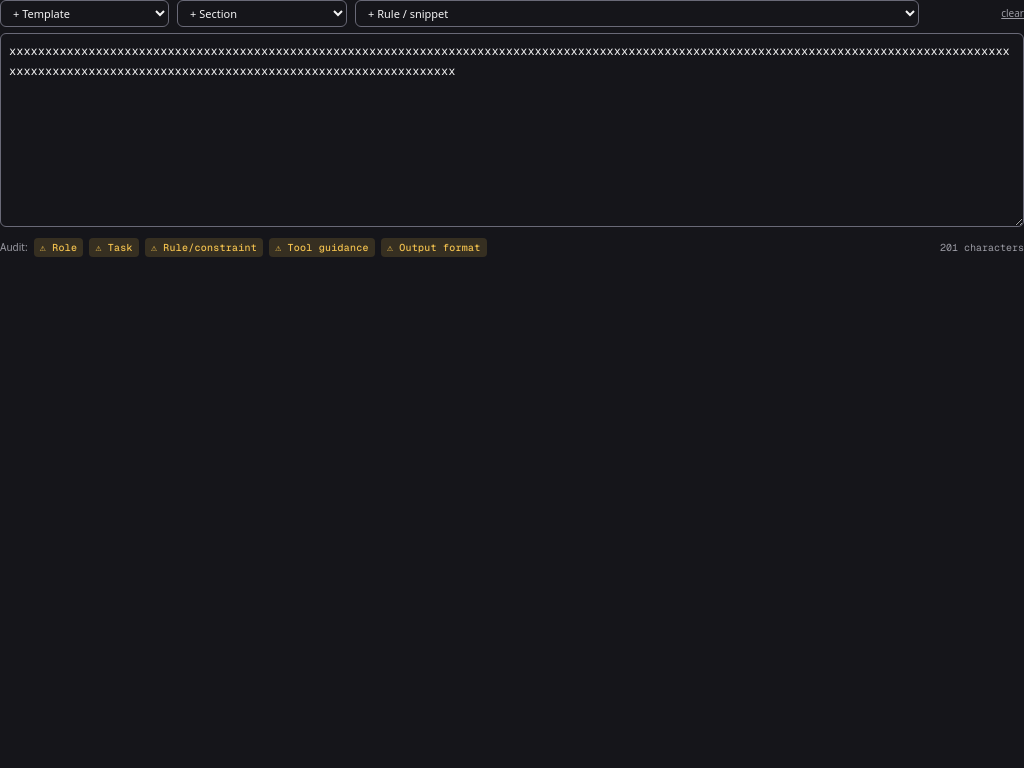
Scenario: PromptEditor clear (long text) › text over 200 chars: clicking clear opens a confirm dialog instead of wiping immediately
What coordinates should you click on to do the following:
click the button "clear"
I would click on:
 (1013, 14)
Its box is [1001,6,1023,21].
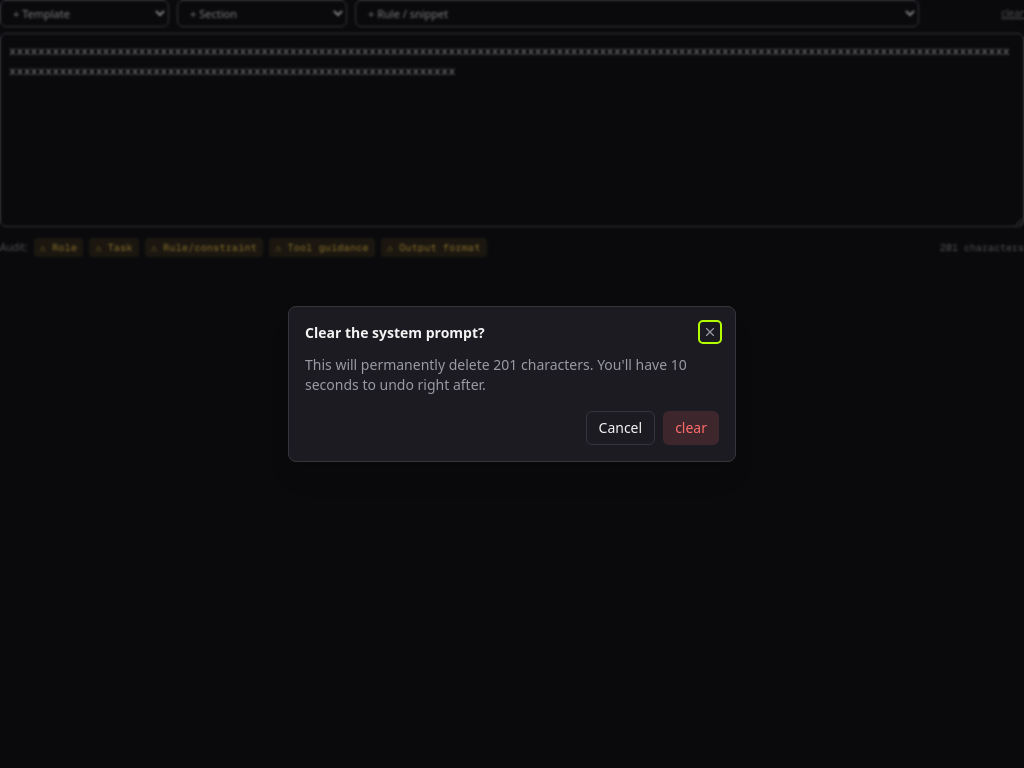
Check: the heading "Clear the system prompt?" is shown, box [305,323,485,343]
What coordinates should you click on to do the following:
click the button "clear"
I would click on:
 (691, 428)
Its box is [663,411,719,445].
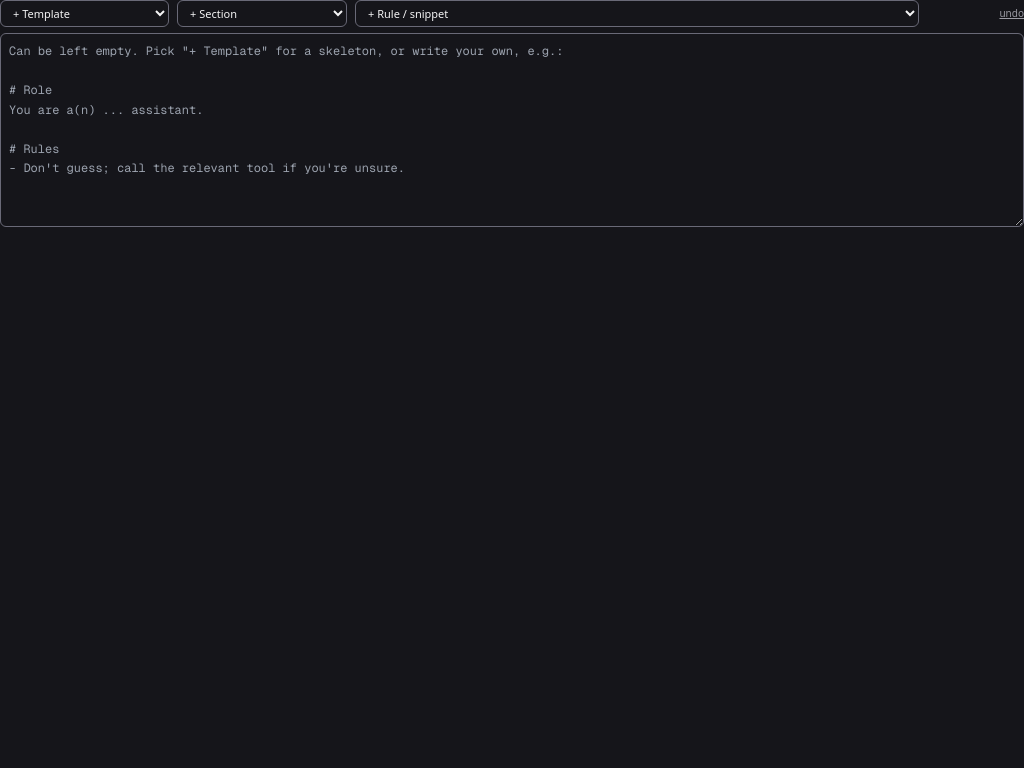
Check: the text box with placeholder "Can be left empty" is empty, box [0,33,1023,226]
// Undo restores the exact wiped text.
What coordinates should you click on to do the following:
click the button "undo"
I would click on:
 (1012, 14)
Its box is [999,6,1023,21].
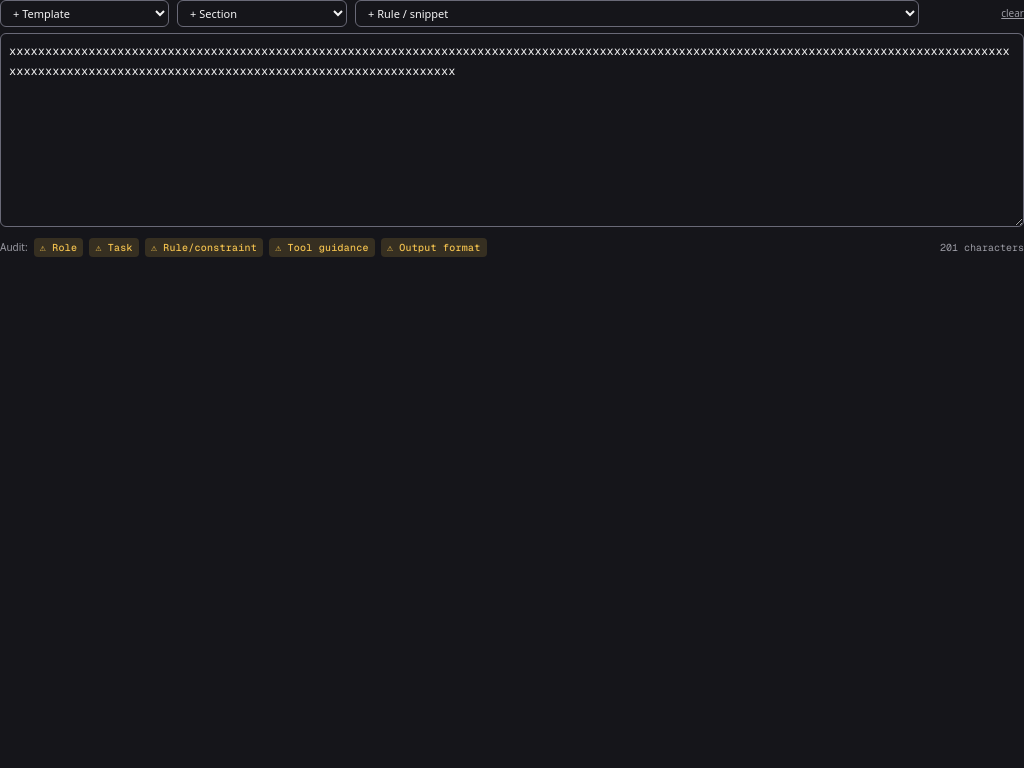
Check: the button "undo" is gone
